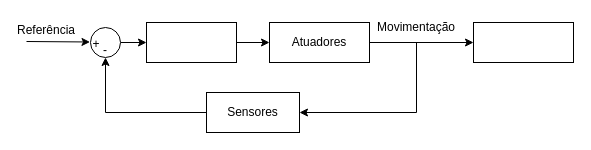
Some shapes in this 591 by 150 pixel diagram are drawn without their labels. The centre of each missing label's shape, as x and y in pixels:
"Controlador" goes at [191,42].
"Robô" goes at [523,42].
